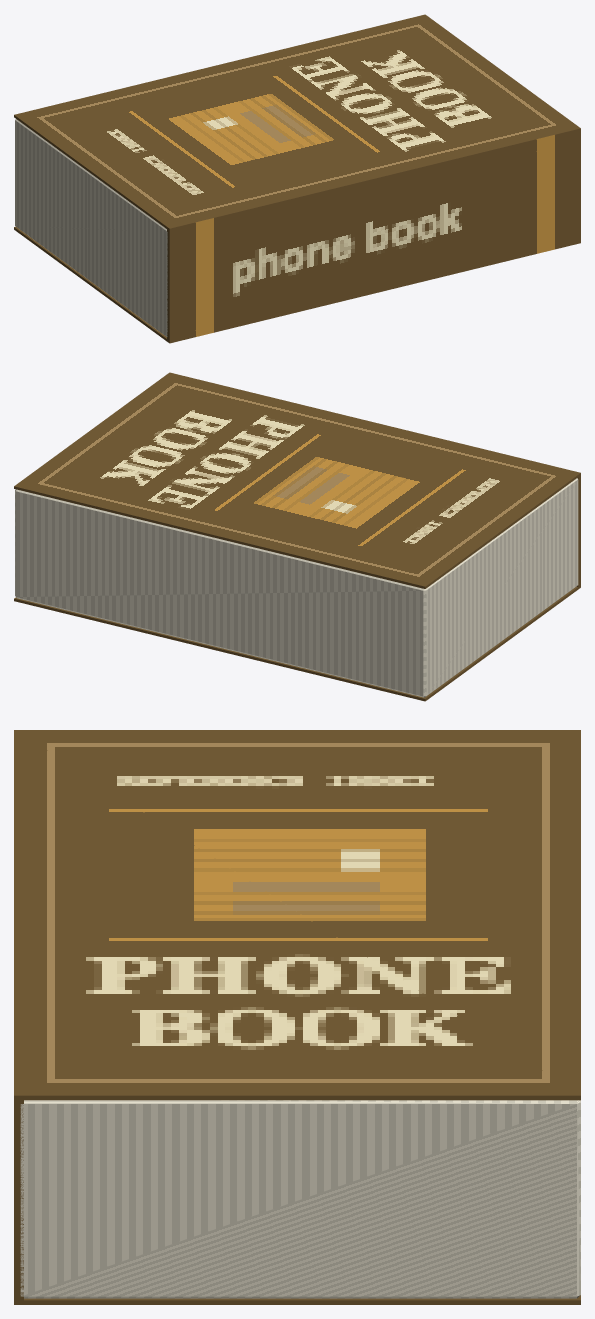
File: phonebook.glb
3 renders of one model, top to bottom at view 1: azimuth 30°, elevation 25°; view 2: azimuth 150°, elevation 25°; view 3: azimuth 270°, elevation 25°, orthographic. The views are drawn at different scales.
Visible parts, largest first — view 1: block_front, block_spine, block_pages, block_back; view 2: block_front, block_pages, block_back, block_spine; view 3: block_front, block_pages, block_spine, block_back.
Part boxes in pixels (x1,y1,x2,y2): block_front: (14, 14, 579, 230); block_spine: (167, 126, 580, 343); block_pages: (15, 119, 167, 336); block_back: (14, 226, 168, 342); block_front: (14, 373, 580, 588); block_pages: (15, 478, 578, 697); block_back: (14, 586, 580, 701); block_spine: (169, 372, 580, 589); block_front: (16, 730, 580, 1100); block_pages: (20, 1100, 580, 1298); block_spine: (14, 730, 23, 1304); block_back: (16, 1295, 580, 1304).
Bounding box in the file's own units: 0.3352 × 0.0894 × 0.2197.
Materials: 1 (1 with a texture image).
